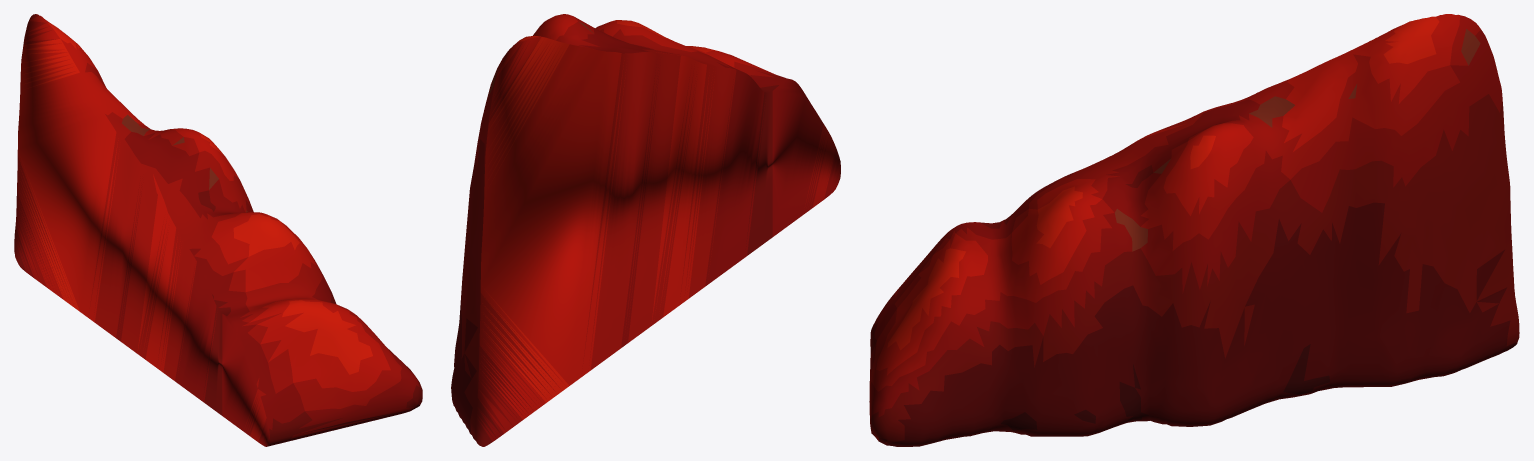
The model's file is red_spire_r.glb.
The picture shows the model from 3 angles, left to right: view 1: azimuth 30°, elevation 25°; view 2: azimuth 150°, elevation 25°; view 3: azimuth 270°, elevation 25°; orthographic projection. The views are drawn at different scales.
Visible parts, largest first — view 1: red_spire_r; view 2: red_spire_r; view 3: red_spire_r.
Boxes of the visible parts, x1,y1,x2,y2 form: red_spire_r: [14, 14, 422, 446]; red_spire_r: [451, 14, 840, 446]; red_spire_r: [869, 14, 1519, 446].
Size of the model in its own units: 9.93 by 15.8 by 27.42.
